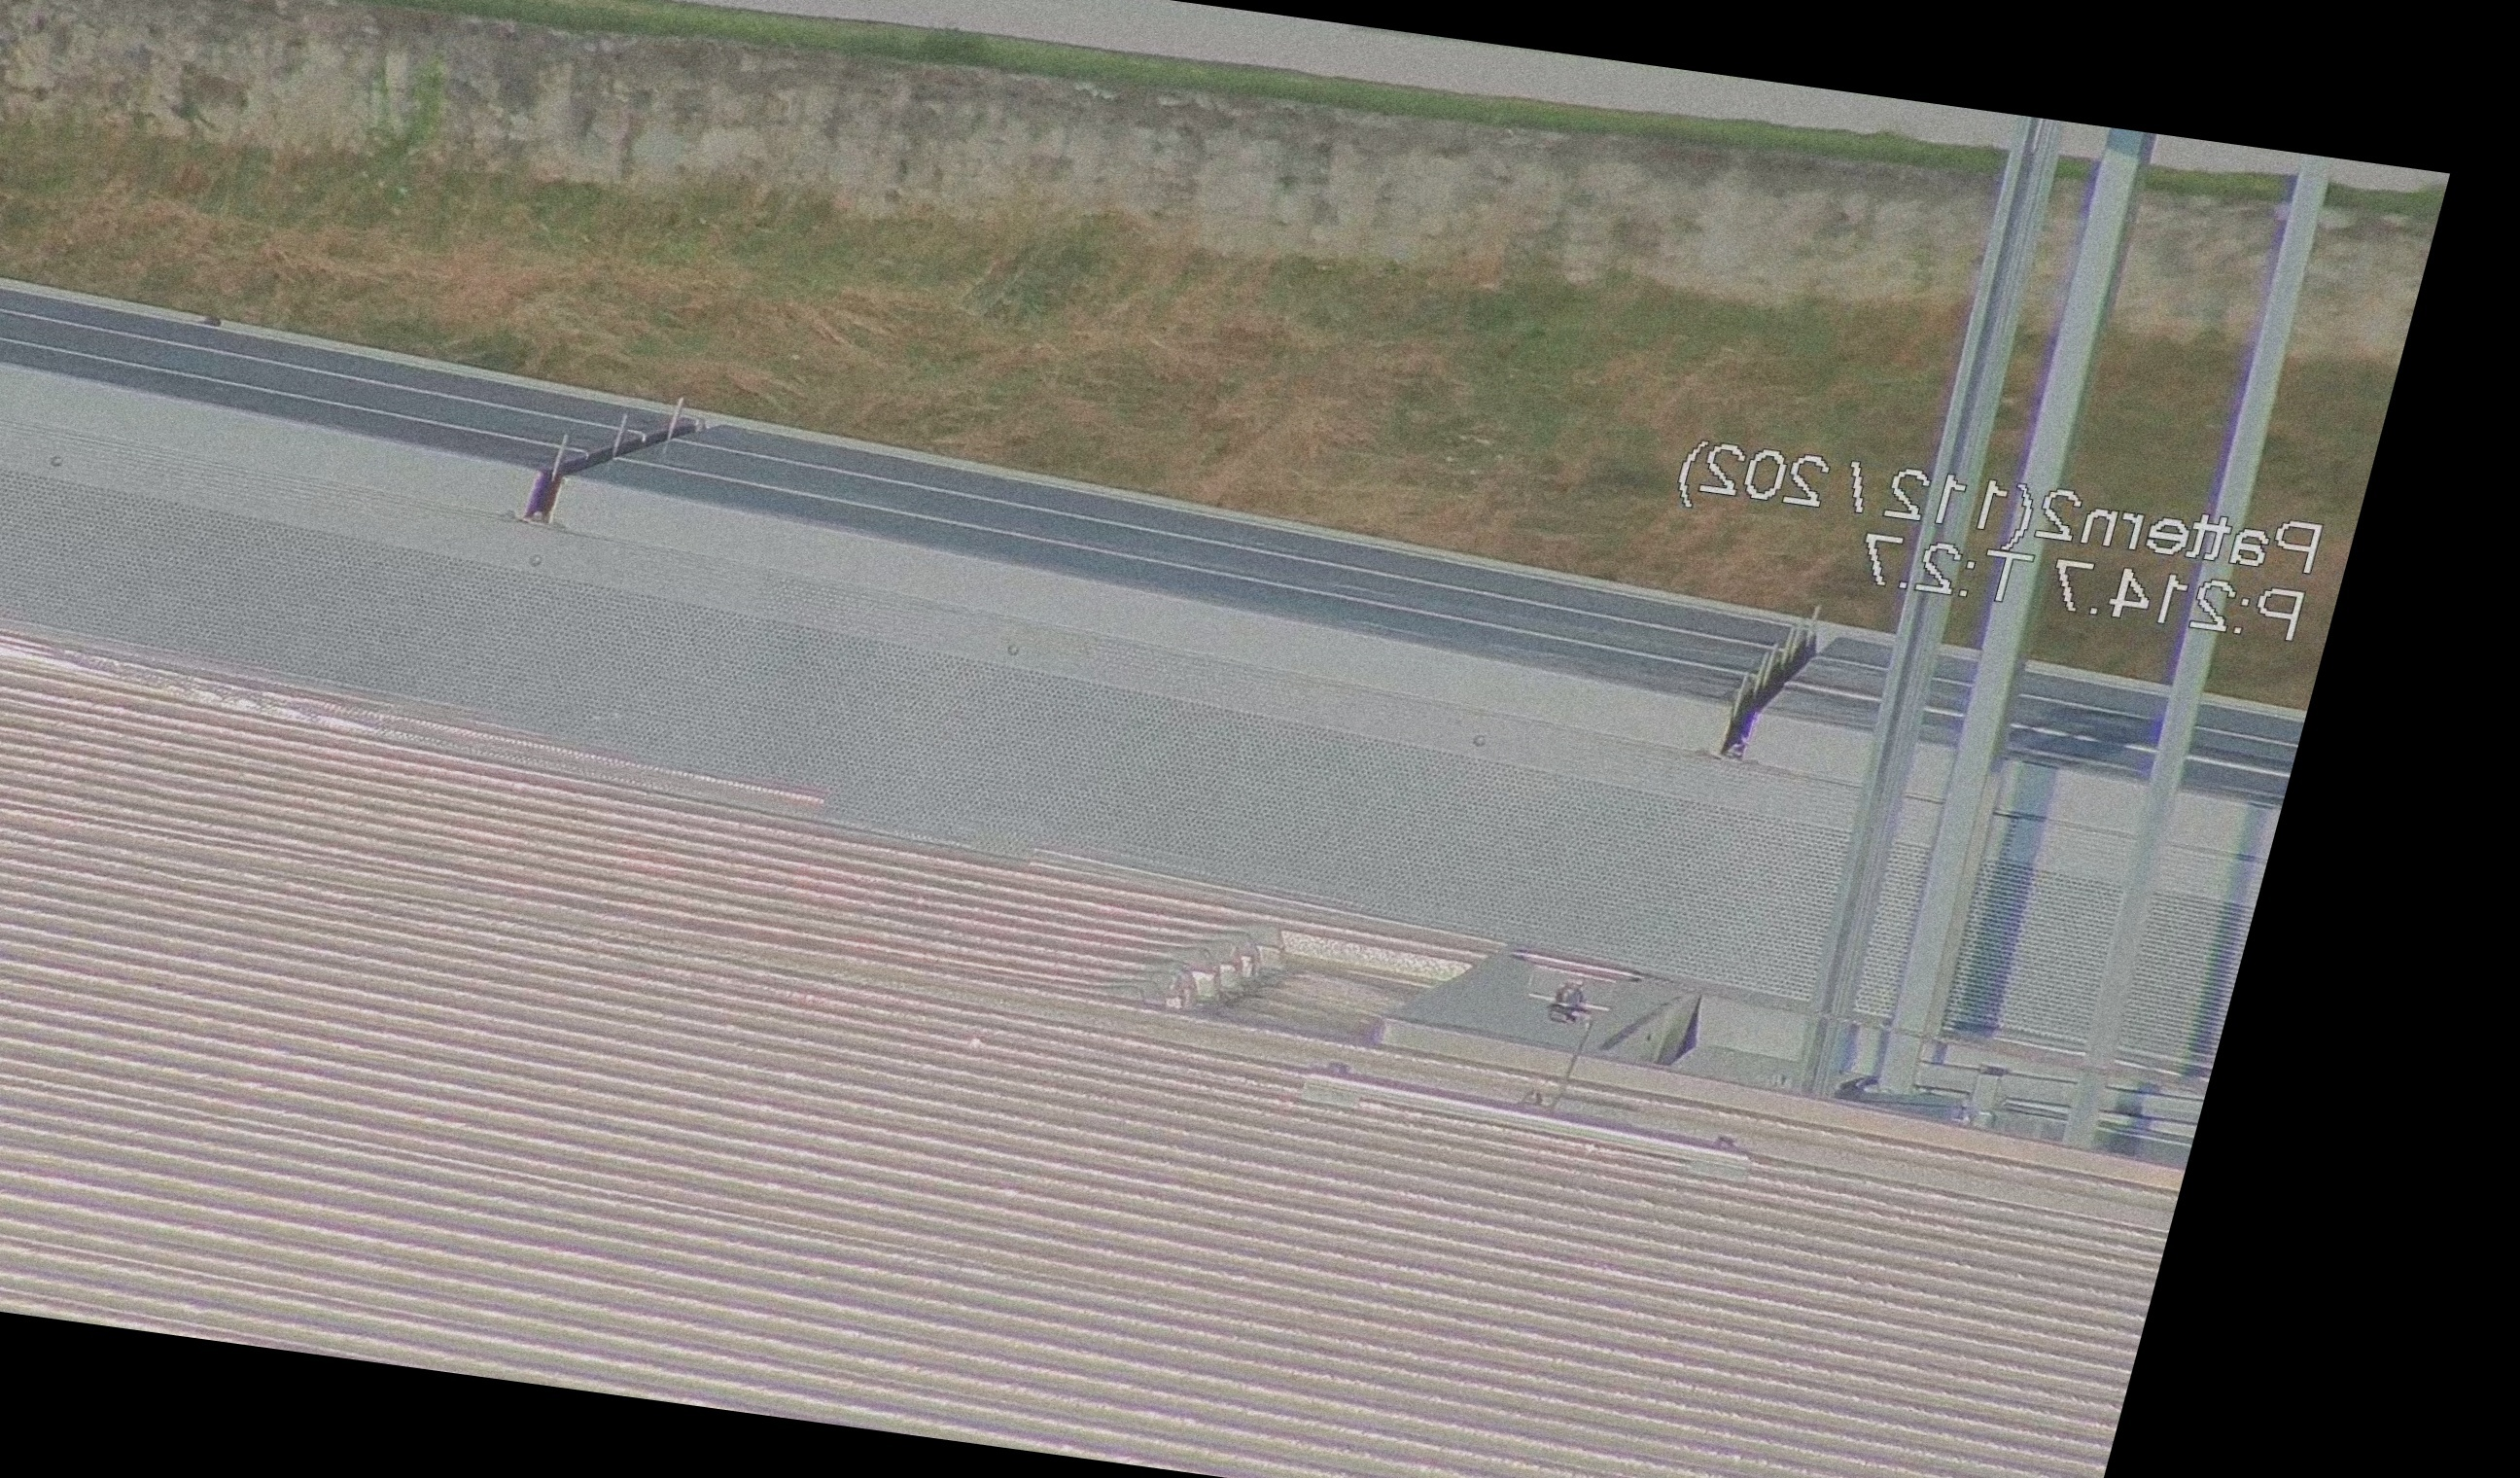Other: (1716, 595, 1869, 779)
